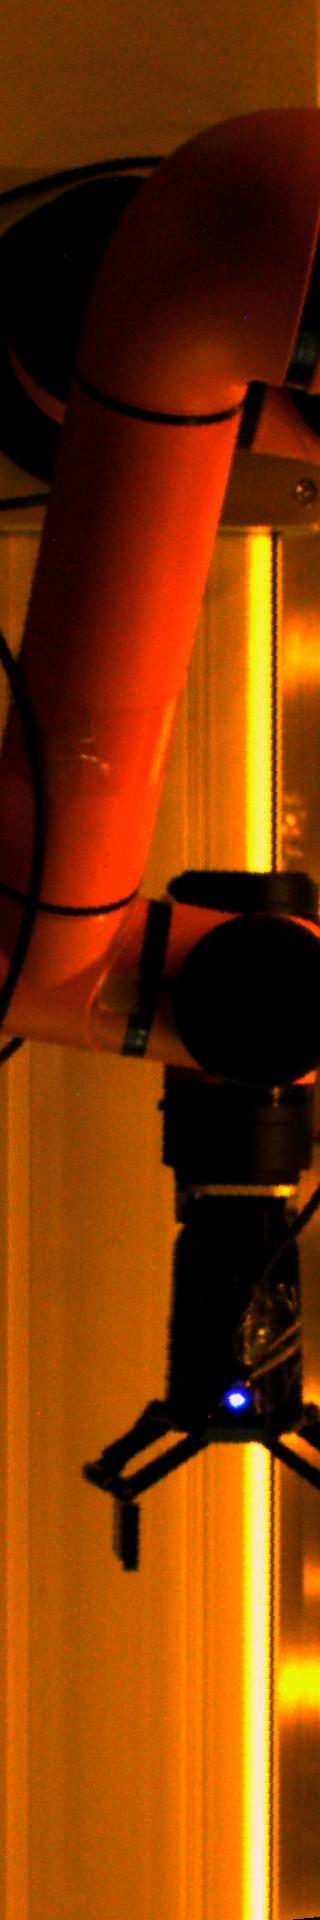keyPoint_1: (221, 1381, 251, 1411)
